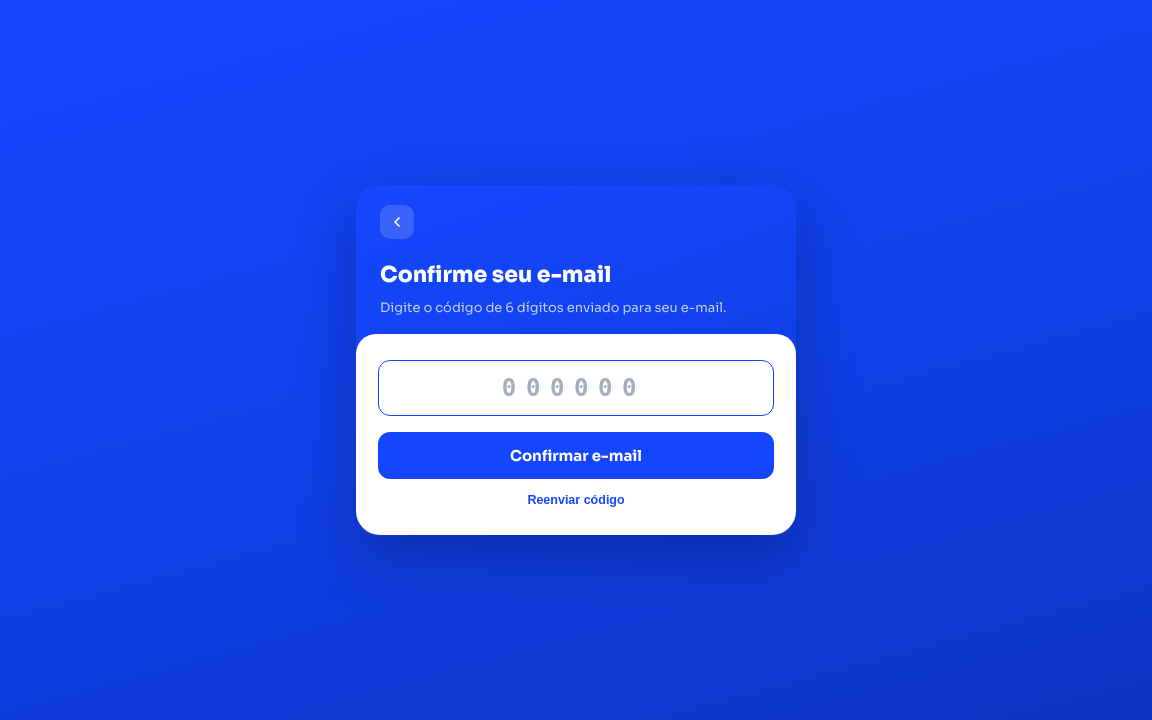
it: VerifyEmail — verificação por código › código incorreto: mostra o erro do servidor e continua no formulário
The width and height of the screenshot is (1152, 720).
Type "999999" into the field with placeholder "000000" at {"x": 576, "y": 388}, box x1=378 y1=360 x2=774 y2=416
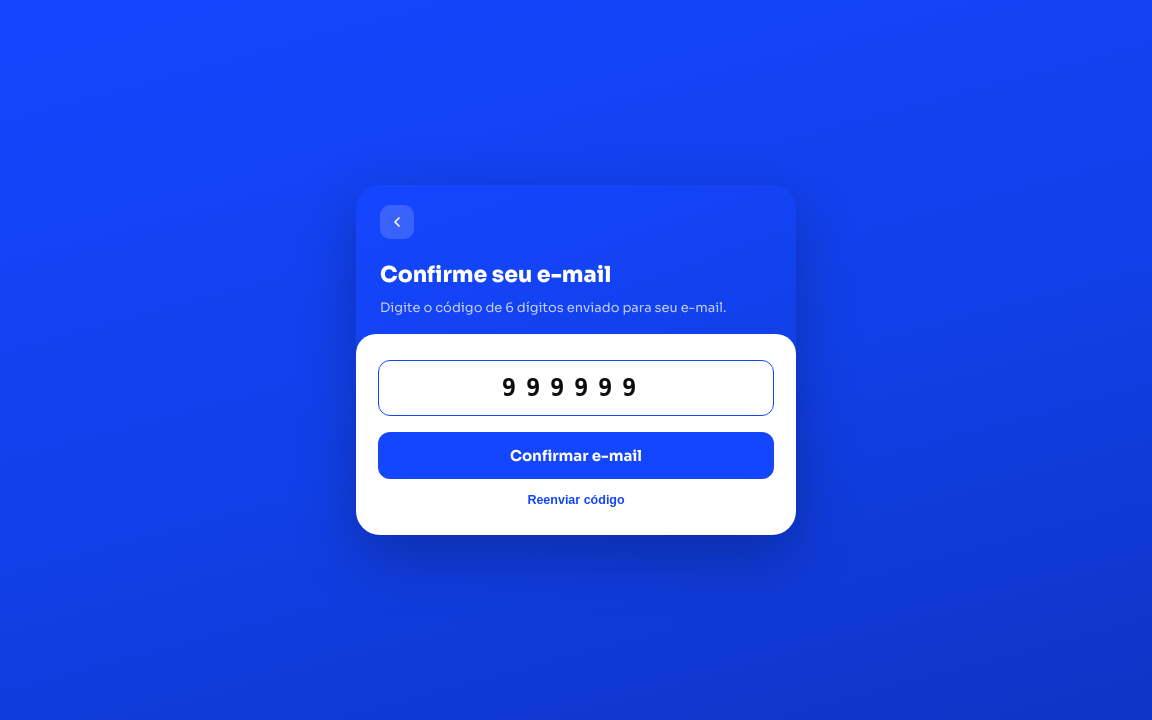
Click the button "Confirmar e-mail" at {"x": 576, "y": 456}, box x1=378 y1=432 x2=774 y2=480
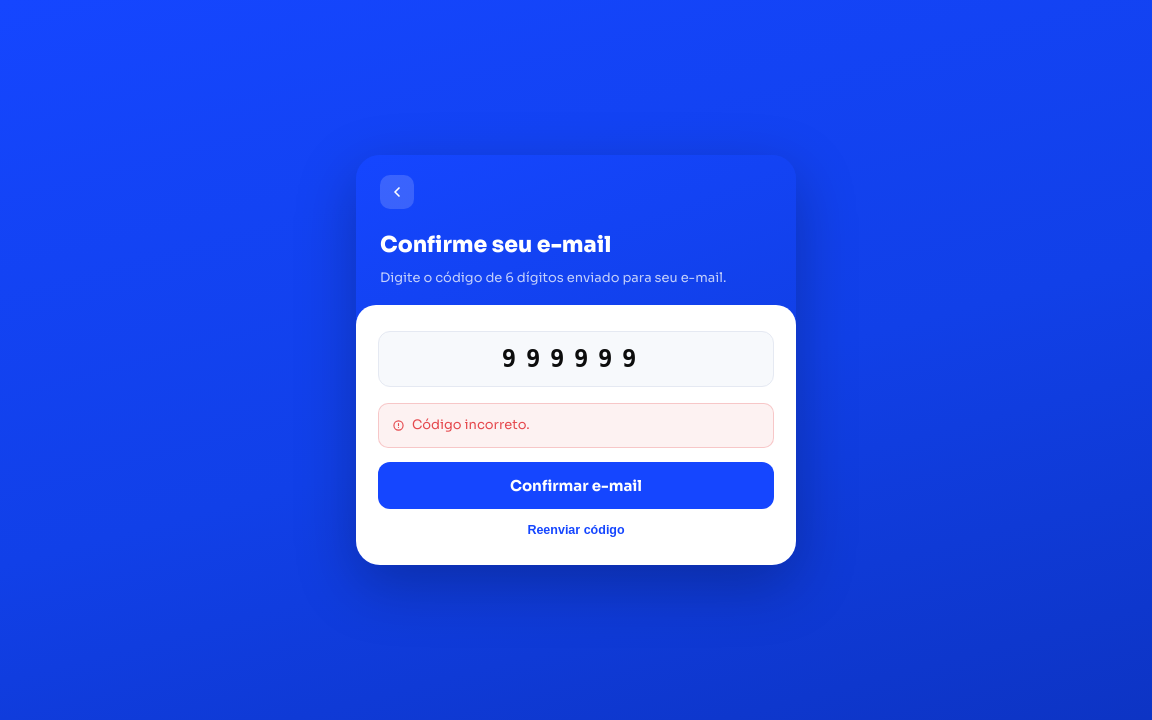
Check: the button "Confirmar e-mail" is shown, box x1=378 y1=462 x2=774 y2=509
Check: the text "Código incorreto." is shown, box x1=378 y1=403 x2=774 y2=448
